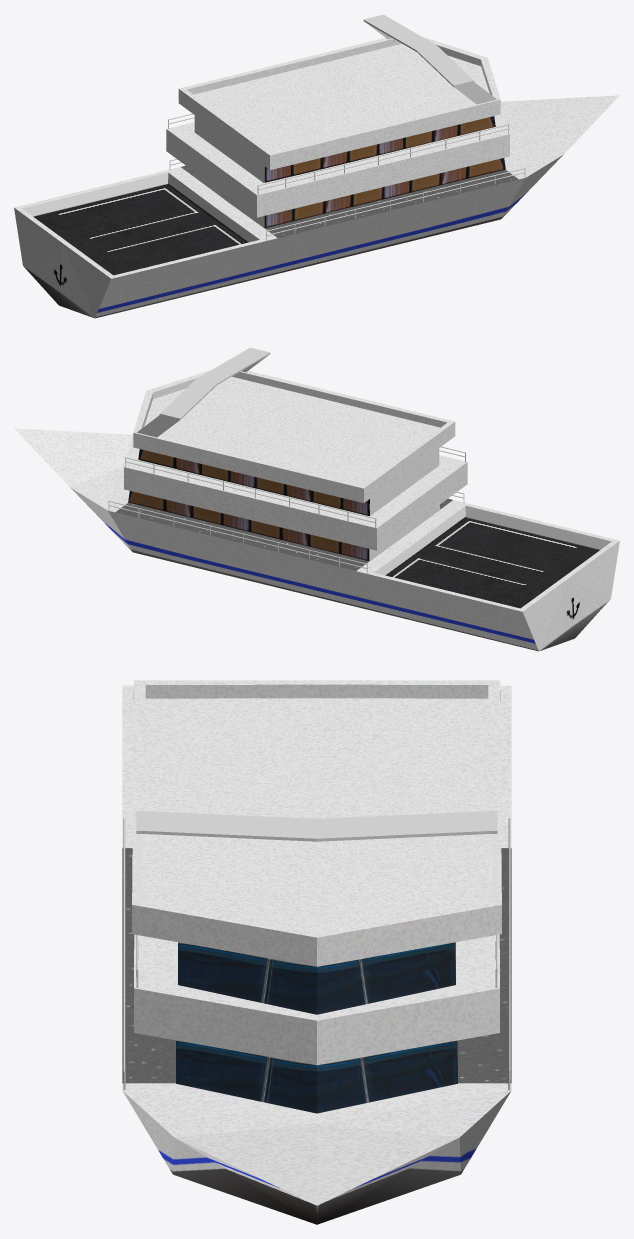
Rendered from Ferry.dae.
3 views of the same model, one above another, from view 1: azimuth 30°, elevation 25°; view 2: azimuth 150°, elevation 25°; view 3: azimuth 270°, elevation 25° (orthographic). The views are drawn at different scales.
Visible parts, largest first — view 1: Ferry, Cube, Railings; view 2: Ferry, Cube, Railings; view 3: Ferry, Cube, Railings.
Boxes of the visible parts, x1,y1,x2,y2 form: Ferry: [14, 36, 619, 318]; Cube: [363, 14, 496, 104]; Railings: [168, 113, 525, 240]; Ferry: [14, 369, 619, 651]; Cube: [137, 347, 270, 437]; Railings: [108, 446, 465, 573]; Ferry: [122, 680, 511, 1224]; Cube: [136, 811, 497, 902]; Railings: [123, 818, 510, 1090].
Size of the model in its own units: 121 by 36.43 by 34.59.
Materials: 1 (1 with a texture image).
